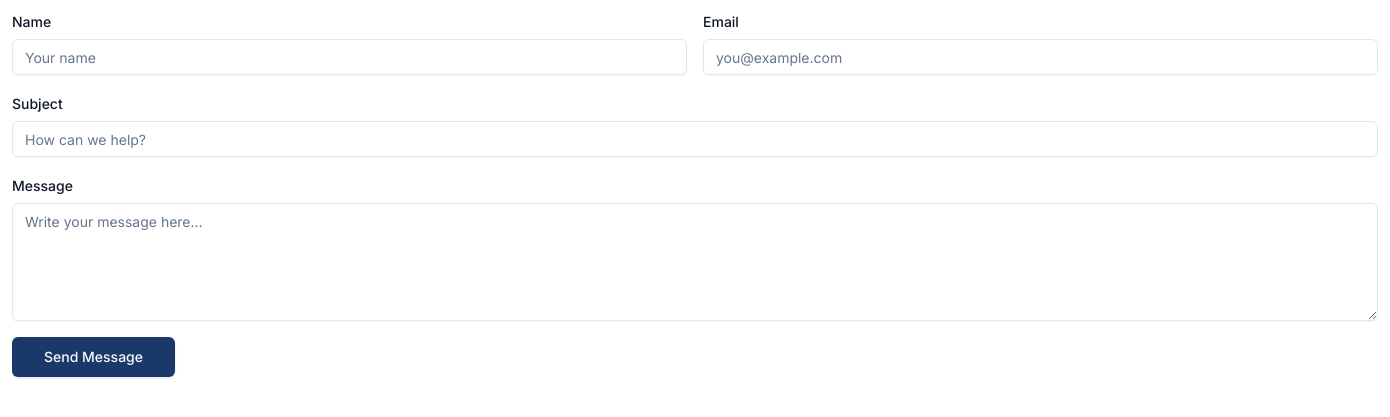
Test: ContactForm › client-side validation on submit › shows invalid email message for malformed email
Type "John" into the field labelled "Name" at [350, 57], box x1=12 y1=39 x2=687 y2=75
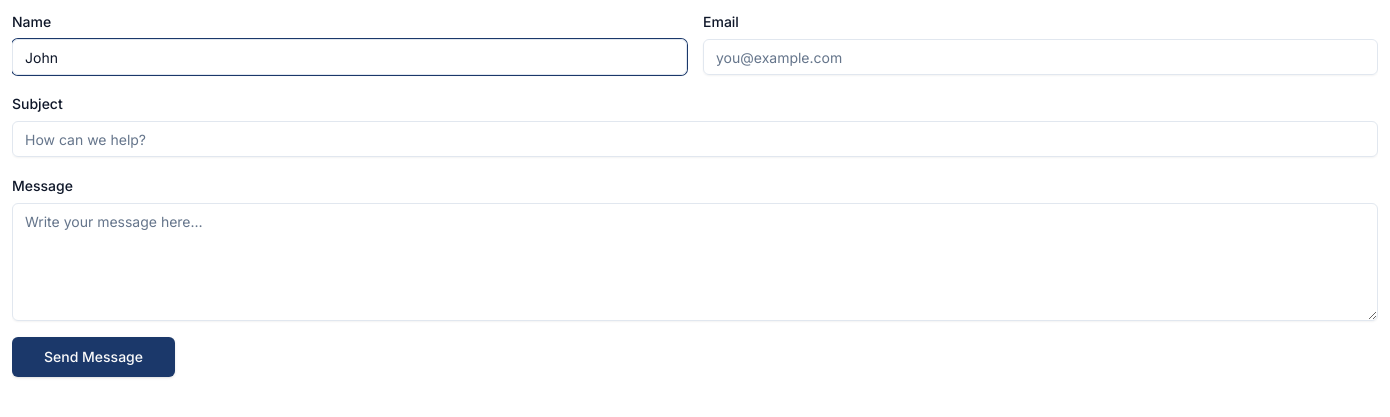
Type "notvalid" into the field labelled "Email" at [1040, 57], box x1=703 y1=39 x2=1378 y2=75
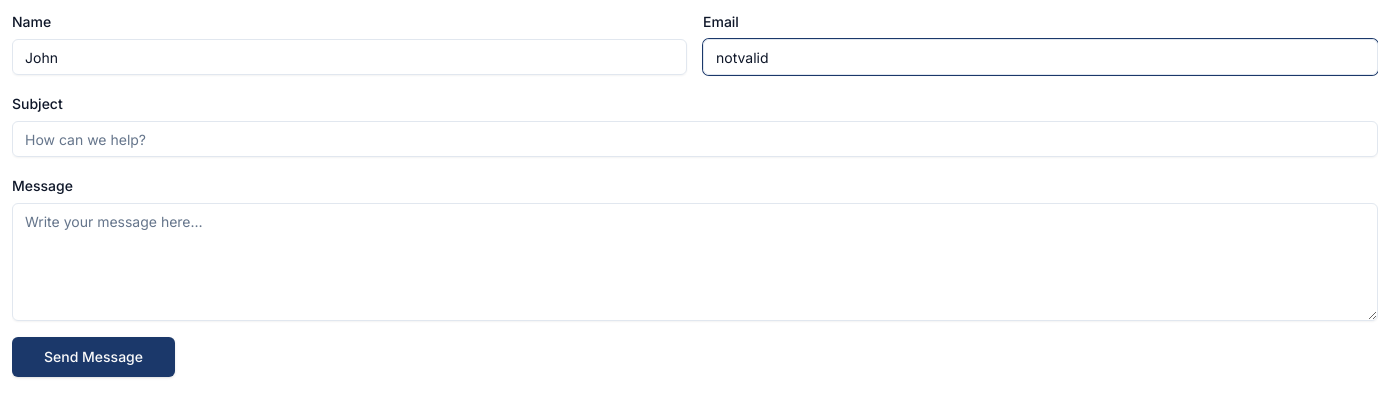
Type "Hello" into the field labelled "Subject" at [695, 139], box x1=12 y1=121 x2=1378 y2=157
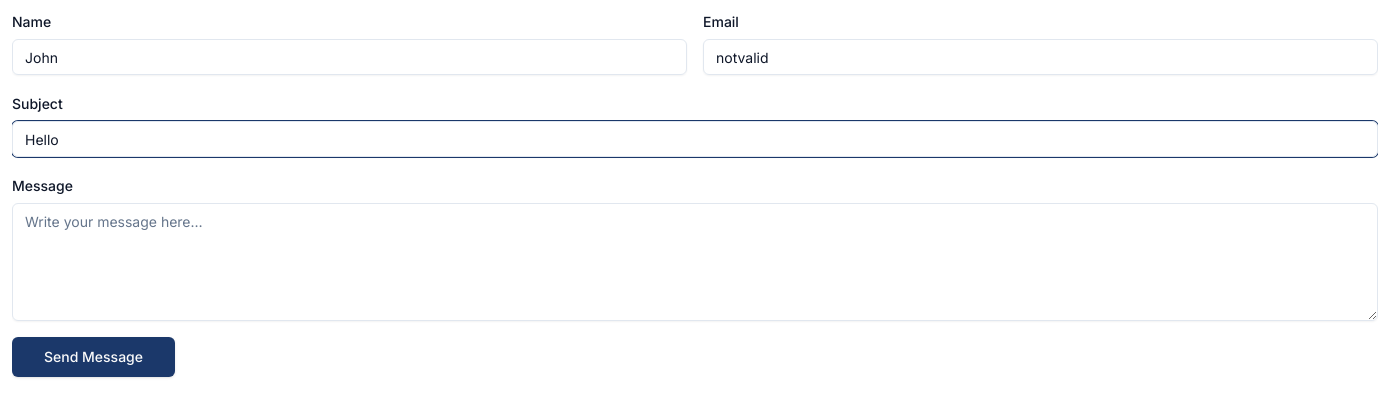
Type "Test message" into the text box labelled "Message" at [695, 262], box x1=12 y1=203 x2=1378 y2=321
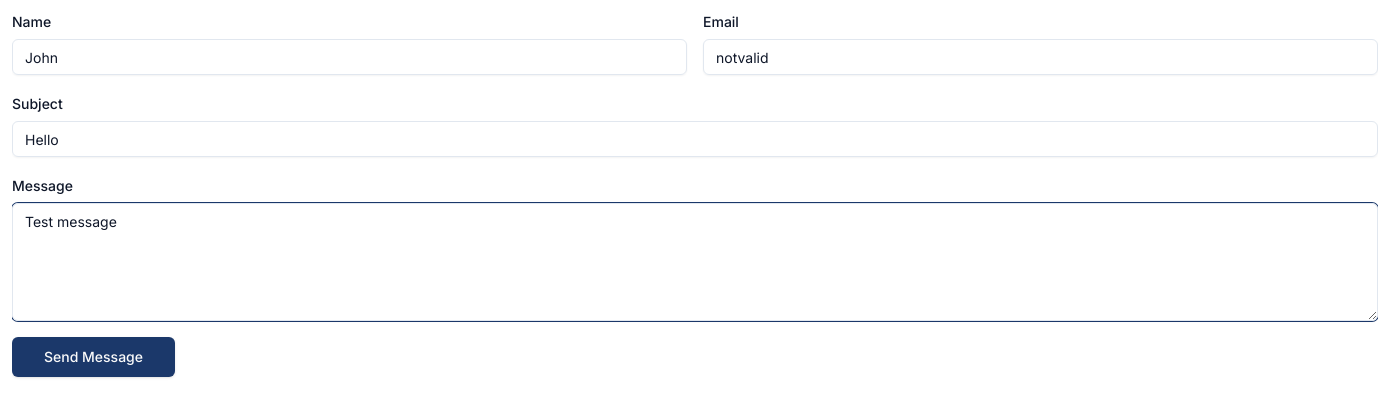
Click the button "Send Message" at [94, 357], box x1=12 y1=337 x2=175 y2=377
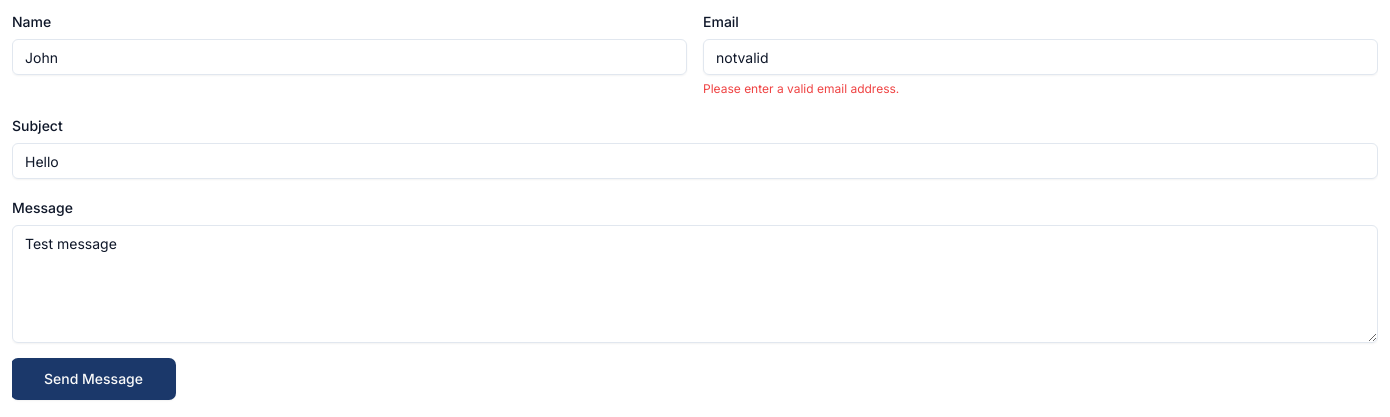
expect the text "Please enter a valid email address." is shown: met, box x1=703 y1=81 x2=899 y2=96
